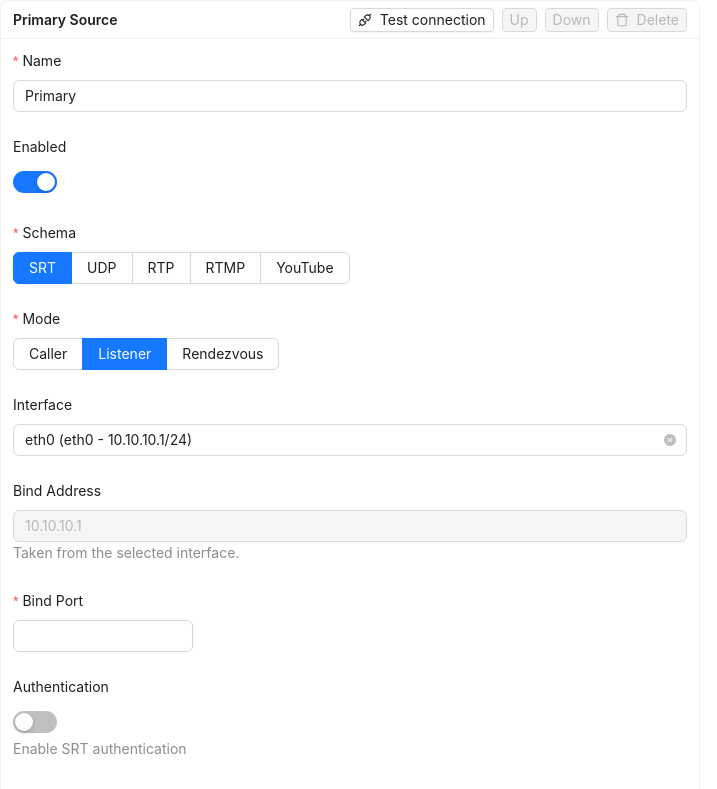
Test: Route form validation › replaces the bind address field with the interface address
The width and height of the screenshot is (717, 789).
(page scrolled)
expect the field labelled "Bind Address" is disabled: met, box x1=13 y1=510 x2=687 y2=542
expect the field labelled "Bind Address" holds "10.10.10.1": met, box x1=13 y1=510 x2=687 y2=542
# Clearing the interface hands the field back to the operator.
Press the mouse on the dropdown labelled "Interface": (50, 405) x1=13 y1=394 x2=86 y2=416
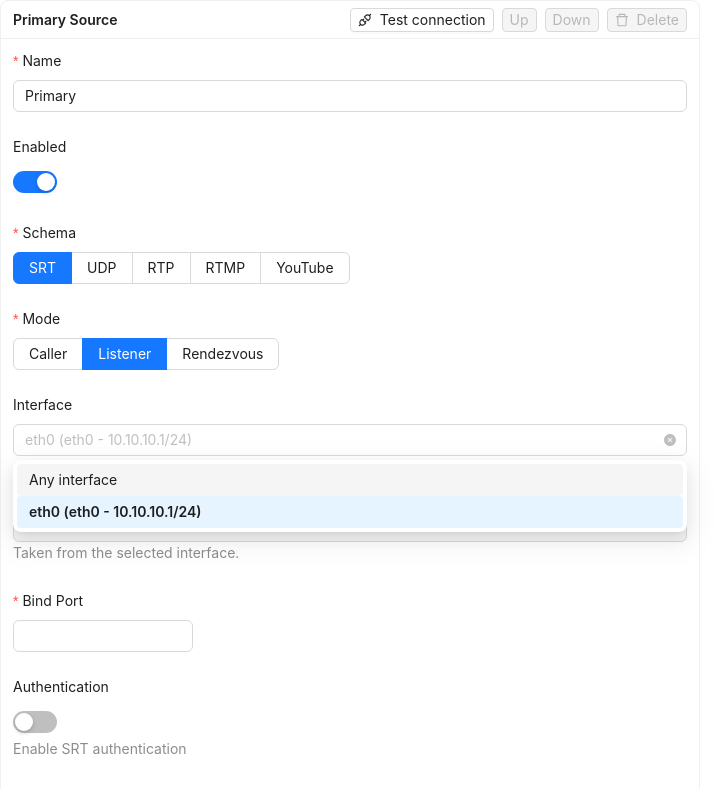
Click the element titled "Any interface": (350, 480) x1=17 y1=464 x2=683 y2=496
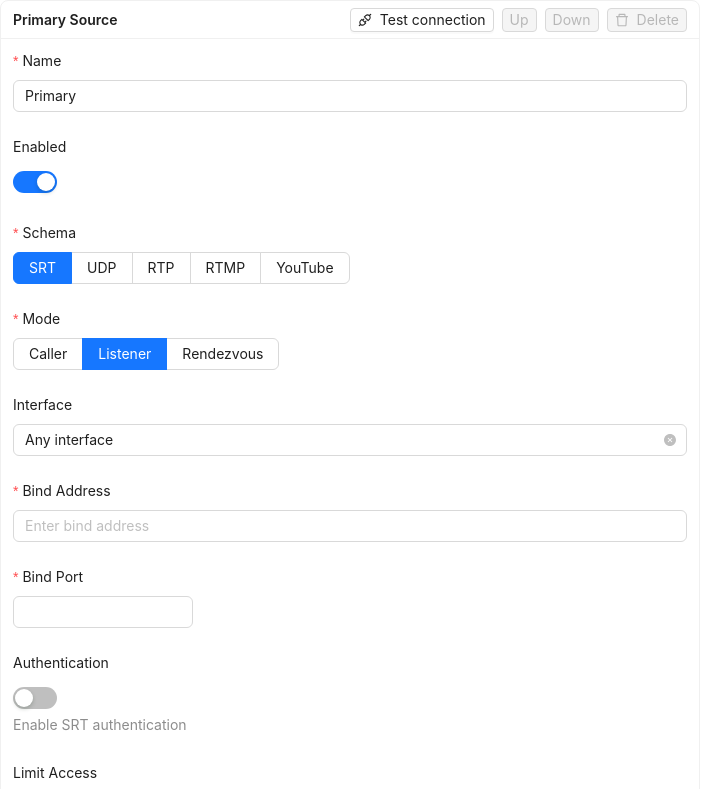
expect the field with placeholder "Enter bind address" is enabled: met, box x1=13 y1=510 x2=687 y2=542
